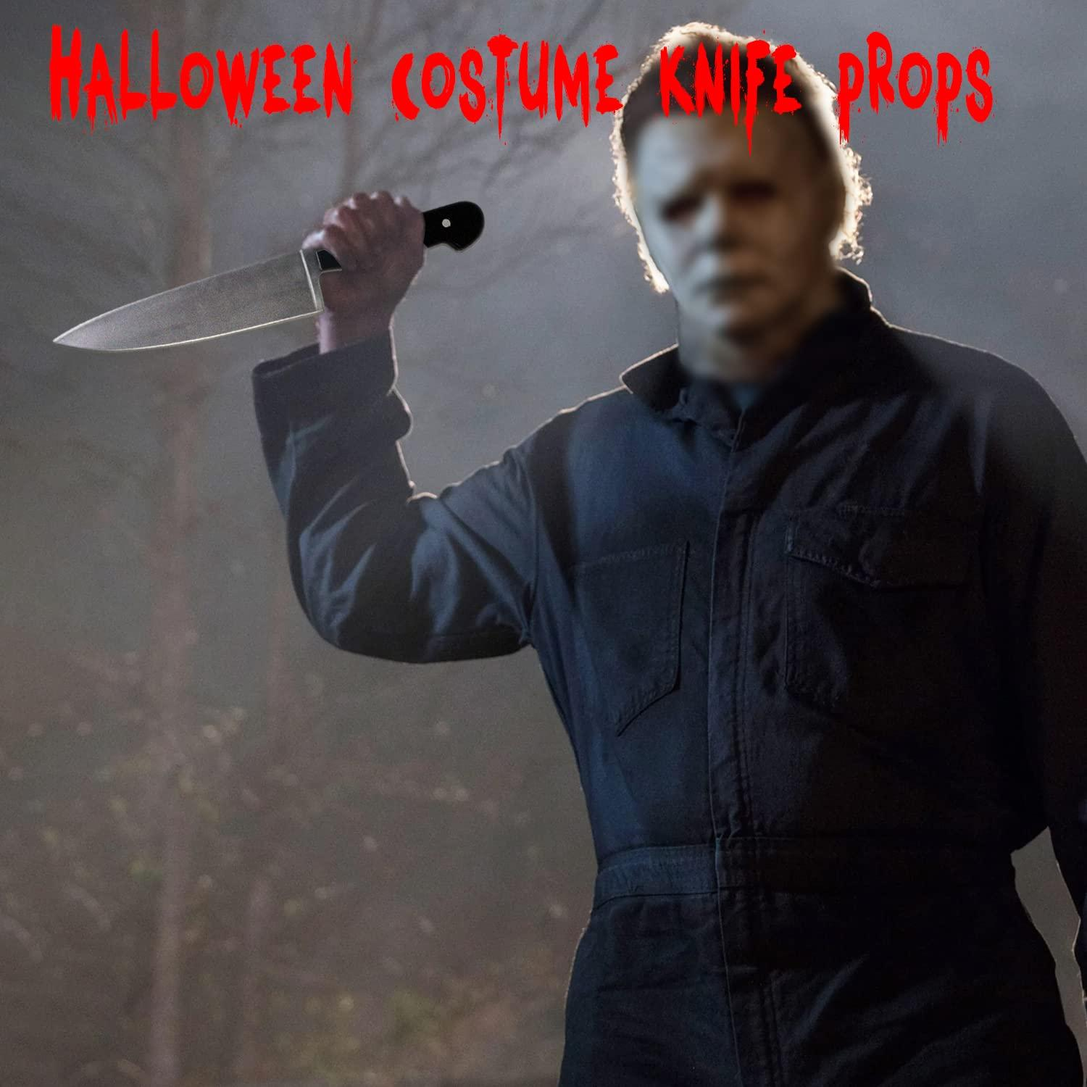Knife: (262, 29, 1087, 1087), (46, 249, 326, 351), (301, 191, 425, 309)
